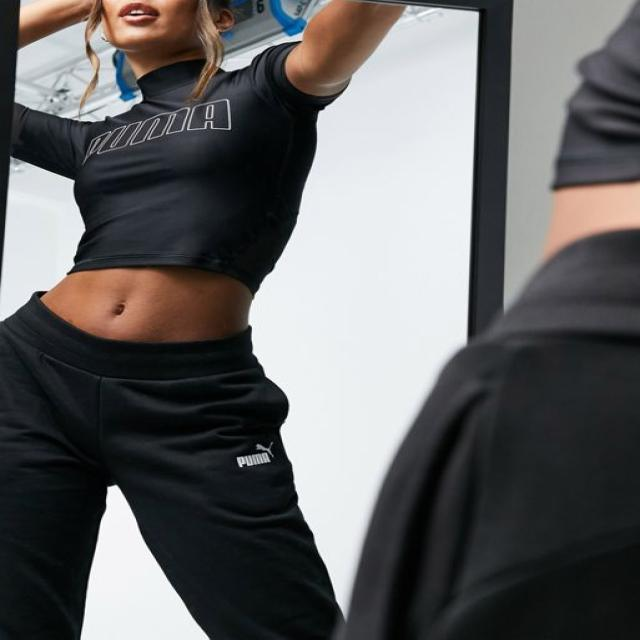tshirt: (10, 38, 349, 294)
